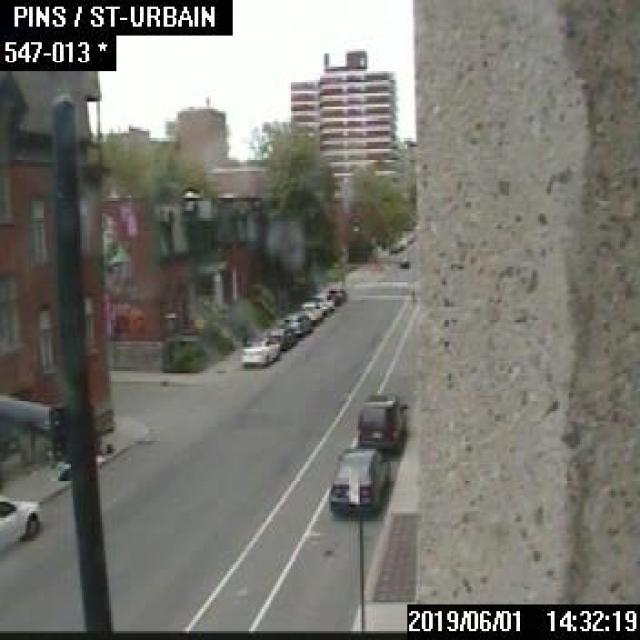vehicle: (327, 444, 390, 518), (356, 392, 408, 451), (0, 493, 42, 551), (240, 335, 278, 365), (268, 326, 296, 349), (284, 312, 312, 334), (300, 299, 326, 321), (311, 290, 333, 310), (327, 284, 347, 302), (397, 253, 409, 265)
